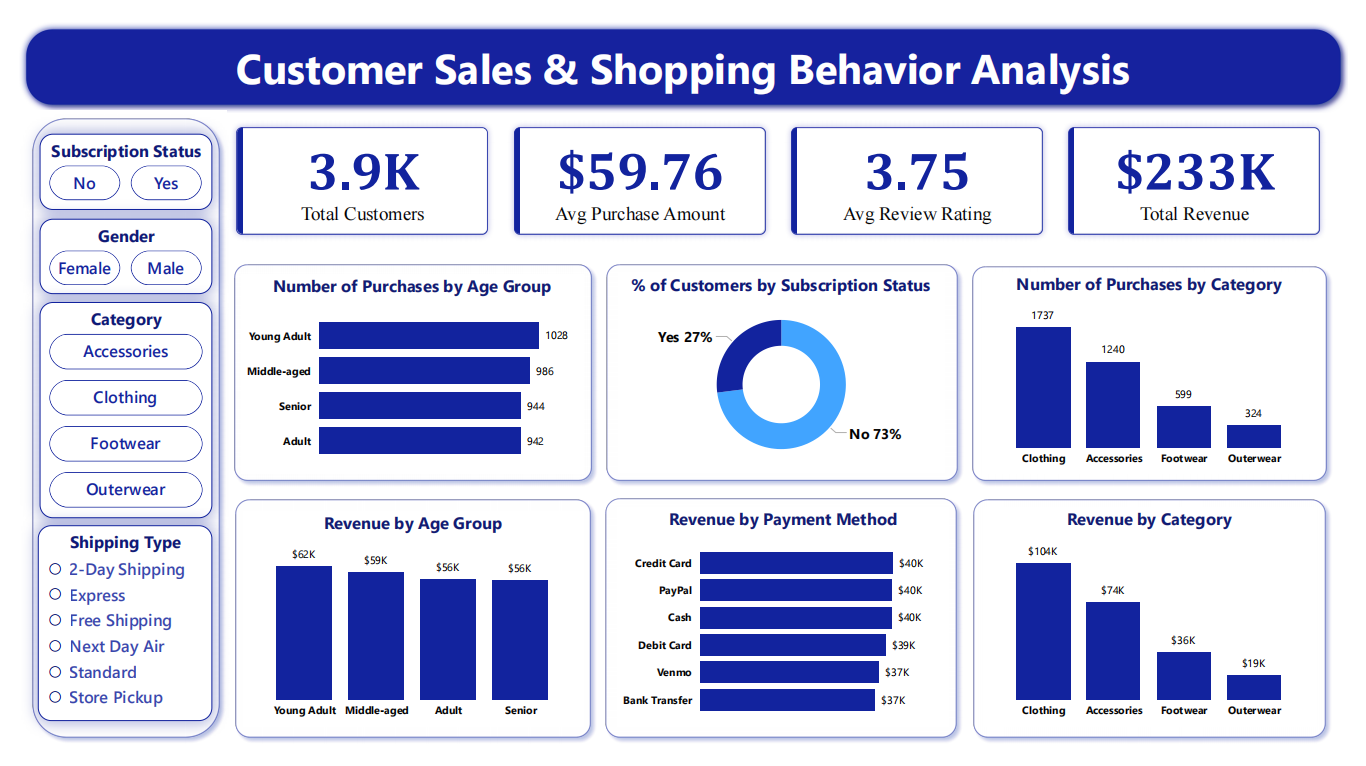

Layout of this report page (visuals, bound fields, positions):
{"tool":"powerbi","page":{"name":"Page 1","canvas":[1500,820],"ordinal":0},"visuals":[{"type":"shape","box":[1067.6,267.6,416.9,259.2],"z":0},{"type":"shape","box":[1068.6,531.4,415.7,285.7],"z":1000},{"type":"shape","box":[235.2,266.2,419.7,260.6],"z":2000},{"type":"cardVisual","fields":{"Data":["public customers.Number of Customers","public customers.Average Purchase Amount","public customers.Average Review Rating","Sum(public customers.purchase_amount)"]},"box":[218.3,91.5,1281.7,176.1],"z":3000},{"type":"shape","box":[0,1.4,1500,101.4],"z":4000},{"type":"shape","box":[654.9,266.2,412.7,260.6],"z":5000},{"type":"donutChart","title":"% of Customers by Subscription Status","fields":{"Category":["public customers.subscription_status"],"Y":["CountNonNull(public customers.customer_id)"]},"box":[676.1,284.5,369,225.4],"z":6000},{"type":"shape","box":[235.7,531.4,418.6,285.7],"z":7000},{"type":"shape","box":[654.3,530,412.9,287.1],"z":8000},{"type":"clusteredColumnChart","title":"Revenue by Category","fields":{"Y":["Sum(public customers.purchase_amount)"],"Category":["public customers.category"]},"box":[1088.6,548.6,375.7,247.1],"z":9000},{"type":"clusteredColumnChart","title":"Number of Purchases by Category","fields":{"Y":["Count(public customers.customer_id)"],"Category":["public customers.category"]},"box":[1088.6,282.9,375.7,228.6],"z":10000},{"type":"shape","box":[5.6,101.4,229.6,715.5],"z":11000},{"type":"advancedSlicerVisual","title":"Subscription Status","fields":{"Values":["public customers.subscription_status"]},"box":[22.5,126.8,195.8,85.9],"z":12000},{"type":"advancedSlicerVisual","title":"Gender","fields":{"Values":["public customers.gender"]},"box":[22.5,222.5,195.8,85.9],"z":13000},{"type":"advancedSlicerVisual","title":"Category","fields":{"Values":["public customers.category"]},"box":[22.5,316.9,195.8,243.7],"z":14000},{"type":"listSlicer","title":"Shipping Type","fields":{"Values":["public customers.shipping_type"]},"box":[21.1,569,197.2,221.1],"z":15000},{"type":"clusteredColumnChart","title":"Revenue by Age Group","fields":{"Category":["public customers.age_group"],"Y":["Sum(public customers.purchase_amount)"]},"box":[252.9,552.9,384.3,242.9],"z":16000},{"type":"clusteredBarChart","title":"Number of Purchases by Age Group","fields":{"Category":["public customers.age_group"],"Y":["CountNonNull(public customers.customer_id)"]},"box":[250.7,285.9,385.9,225.4],"z":17000},{"type":"clusteredBarChart","title":"Revenue by Payment Method","fields":{"Category":["public customers.payment_method"],"Y":["Sum(public customers.purchase_amount)"]},"box":[675.7,548.6,374.3,247.1],"z":18000}]}

Visuals, with their boxes in screenshot pixels (x1, y1, x2, y2), scaled from the page's 1500x820 canvas onto the 1366x766 screenshot:
shape: <region>972, 250, 1352, 492</region>
shape: <region>973, 496, 1352, 763</region>
shape: <region>214, 249, 596, 492</region>
cardVisual - public customers.Number of Customers x public customers.Average Purchase Amount: <region>199, 85, 1365, 250</region>
shape: <region>0, 1, 1365, 96</region>
shape: <region>596, 249, 972, 492</region>
"% of Customers by Subscription Status" donutChart: <region>616, 266, 952, 476</region>
shape: <region>215, 496, 596, 763</region>
shape: <region>596, 495, 972, 763</region>
"Revenue by Category" clusteredColumnChart: <region>991, 512, 1333, 743</region>
"Number of Purchases by Category" clusteredColumnChart: <region>991, 264, 1333, 478</region>
shape: <region>5, 95, 214, 763</region>
"Subscription Status" advancedSlicerVisual: <region>20, 118, 199, 199</region>
"Gender" advancedSlicerVisual: <region>20, 208, 199, 288</region>
"Category" advancedSlicerVisual: <region>20, 296, 199, 524</region>
"Shipping Type" listSlicer: <region>19, 532, 199, 738</region>
"Revenue by Age Group" clusteredColumnChart: <region>230, 516, 580, 743</region>
"Number of Purchases by Age Group" clusteredBarChart: <region>228, 267, 580, 478</region>
"Revenue by Payment Method" clusteredBarChart: <region>615, 512, 956, 743</region>
